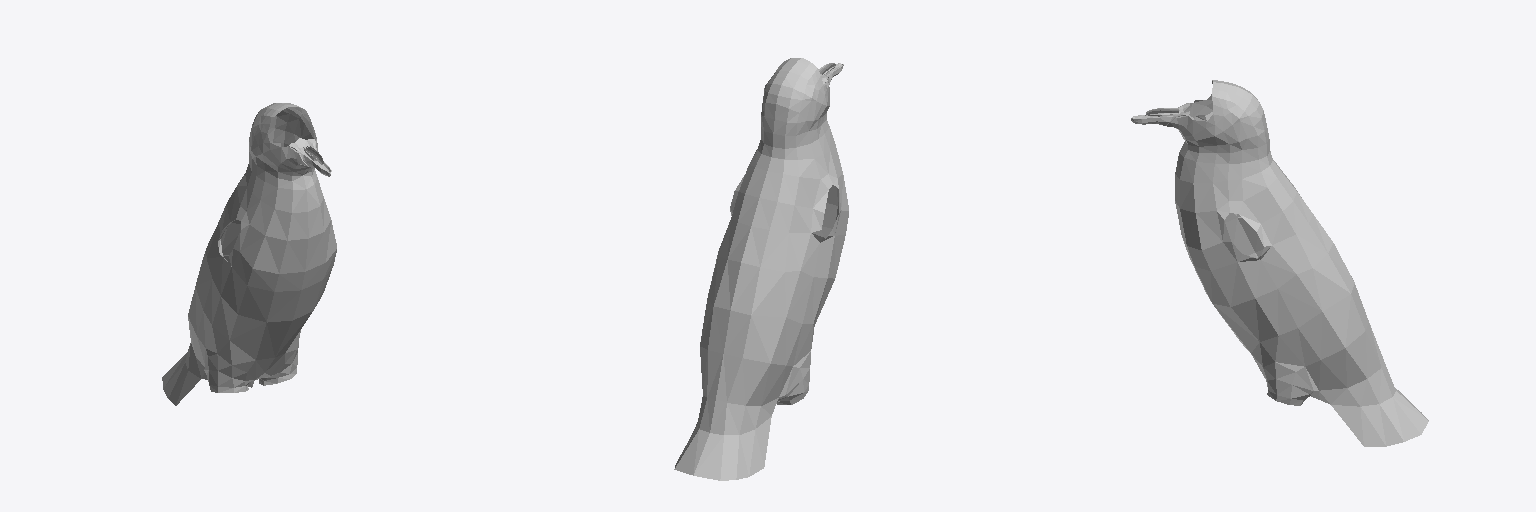
File: f_body.obj
3 views of the same model, side by side, from view 1: azimuth 30°, elevation 25°; view 2: azimuth 150°, elevation 25°; view 3: azimuth 270°, elevation 25° (orthographic).
Parts seen in each view (by area): view 1: Animal; view 2: Animal; view 3: Animal.
Boxes of the visible parts, box(x1,y1,x2,y2) form: Animal: box(162, 103, 336, 405); Animal: box(674, 58, 848, 480); Animal: box(1131, 80, 1428, 446).
Size of the model in its own units: 2.1 by 7.36 by 5.72.